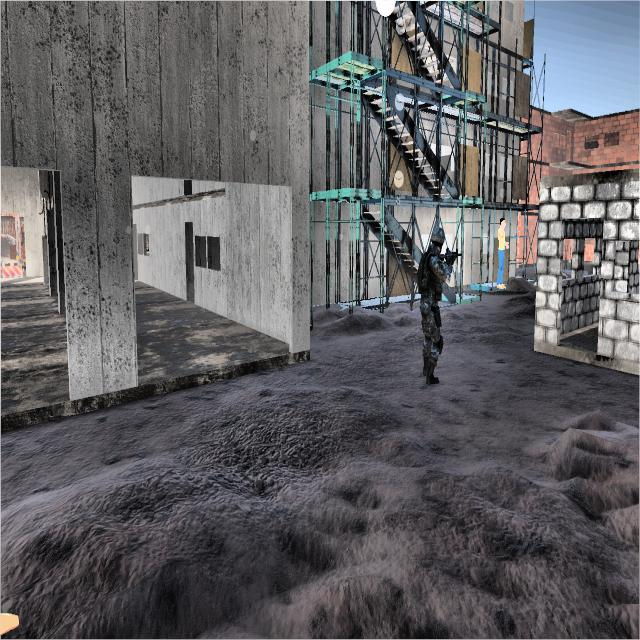bad: (414, 221, 461, 390)
good: (492, 208, 512, 300)
